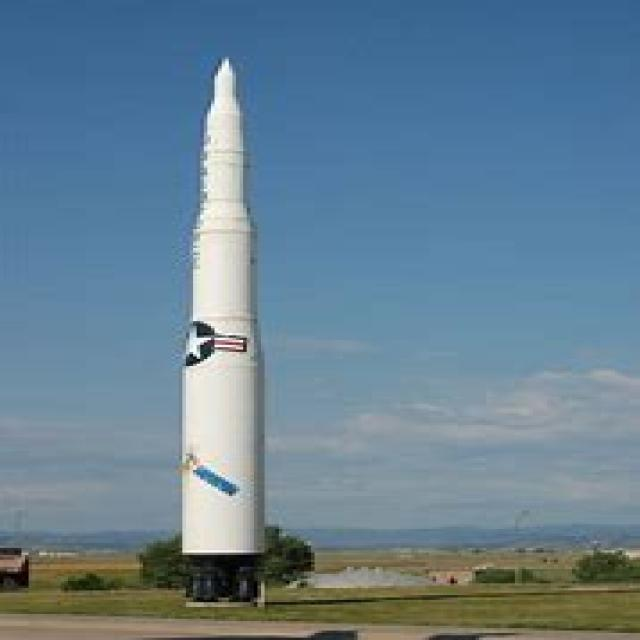missile: (182, 55, 272, 604)
